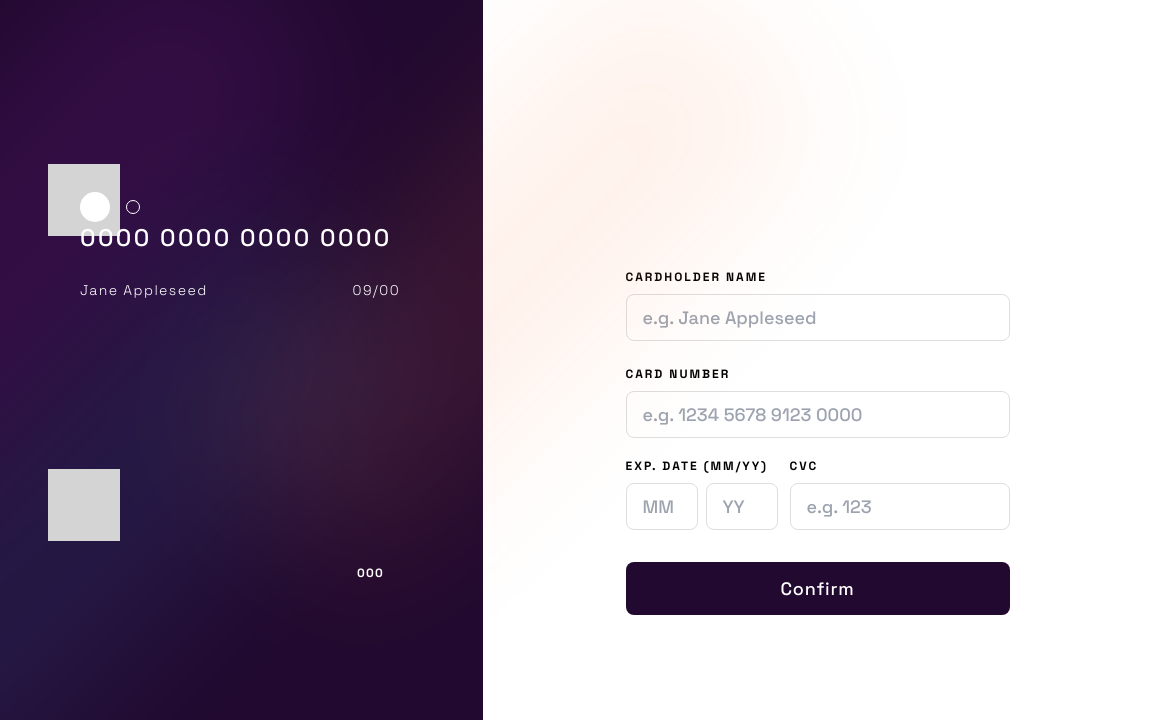
Test: Submit validation › Blank inputs validation › Should show a message if input card expitarion month date is blank
This screenshot has width=1152, height=720.
Type "Andres Marquez" into the field labelled "CARDHOLDER NAME" at (818, 318), box [626, 294, 1010, 341]
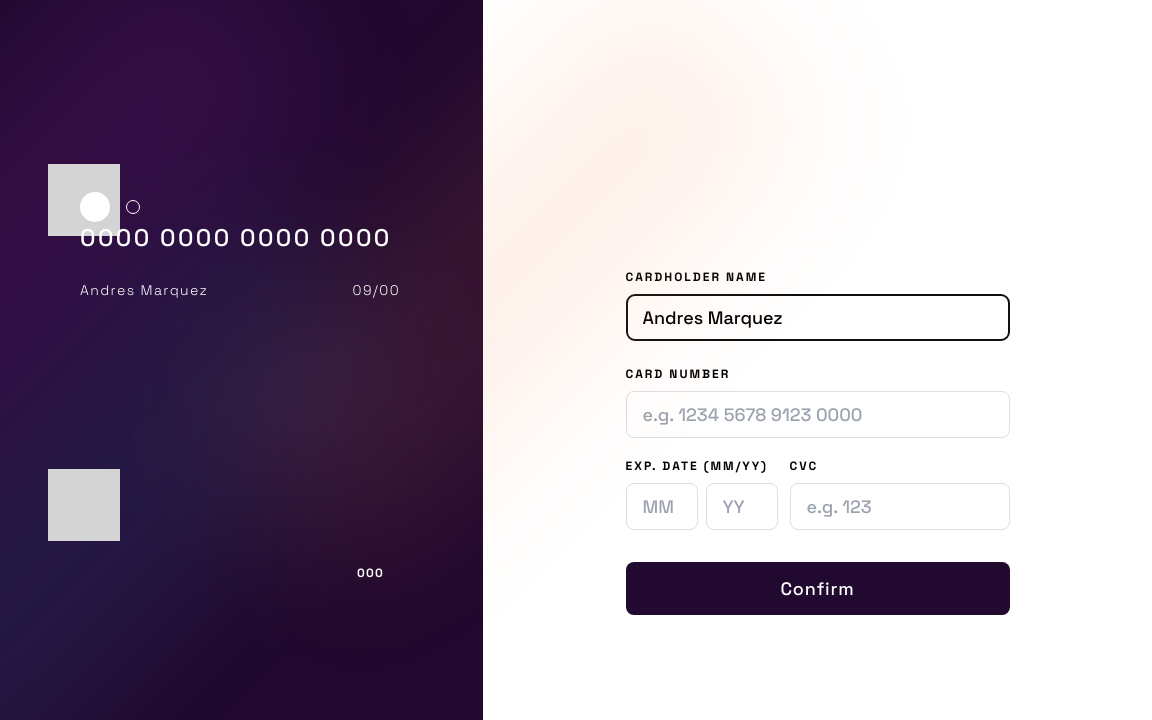
Type "0000001223444540" into the field labelled "CARD NUMBER" at (818, 414), box [626, 391, 1010, 438]
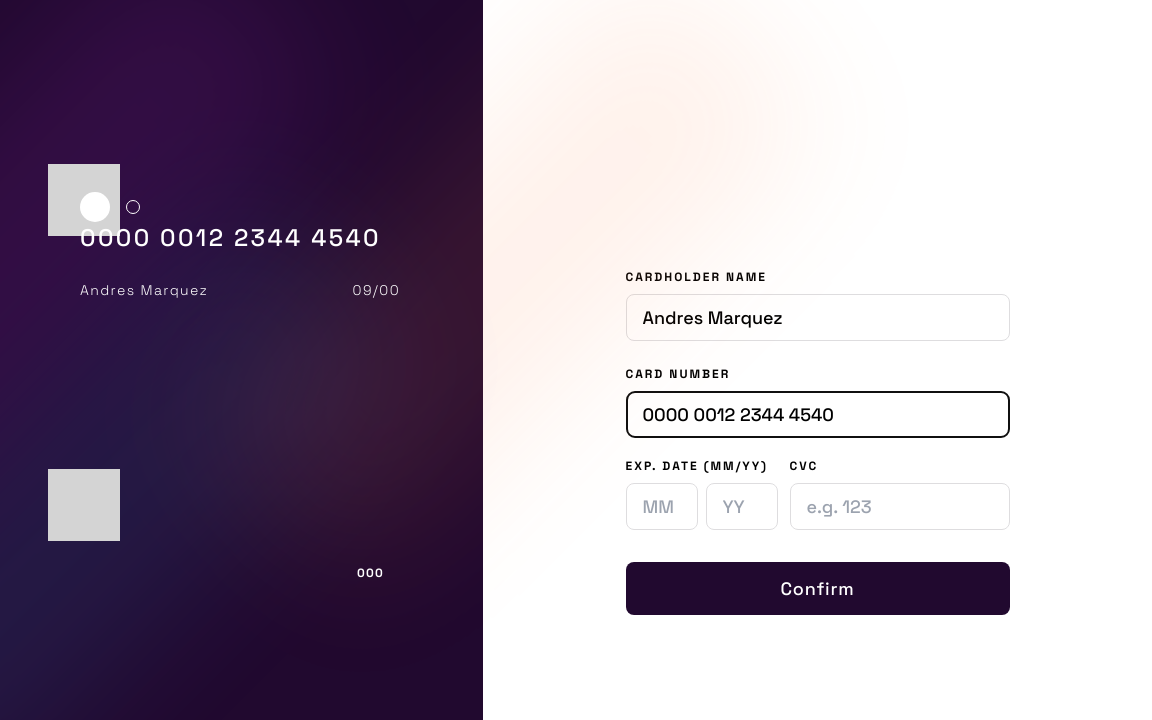
Type "200" into the field labelled "CVC" at (900, 506), box [790, 483, 1010, 530]
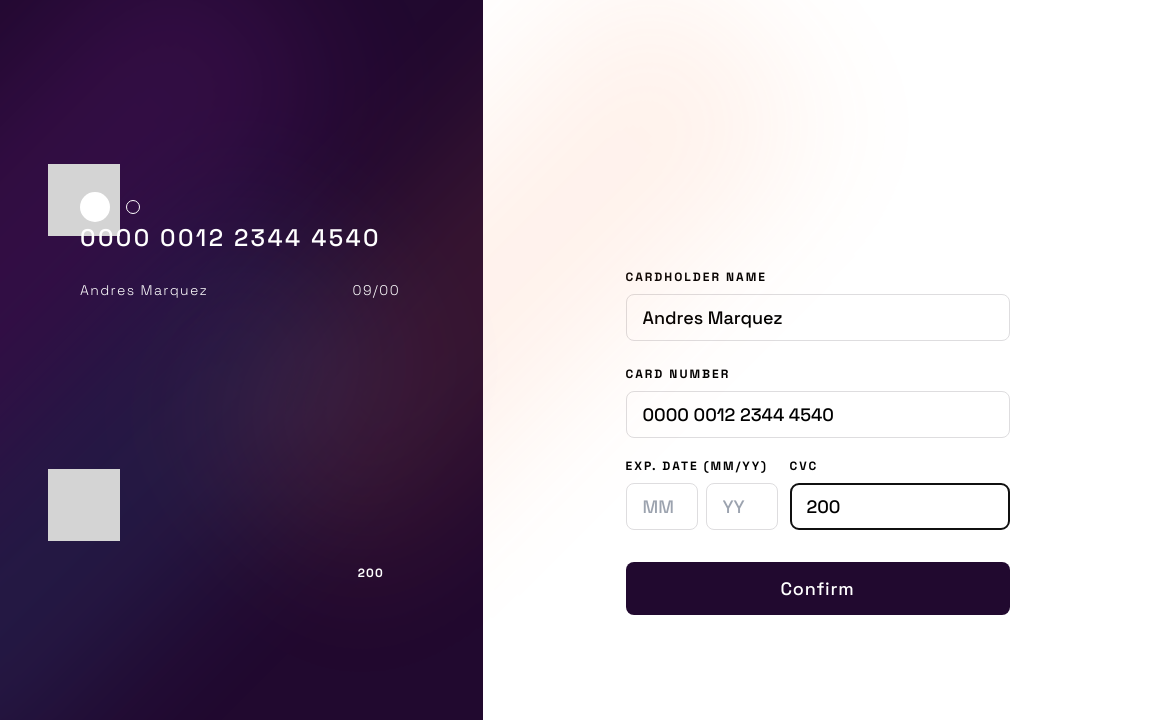
Type "30" into the field with test id "expiredDateYear" at (742, 506), box [706, 483, 778, 530]
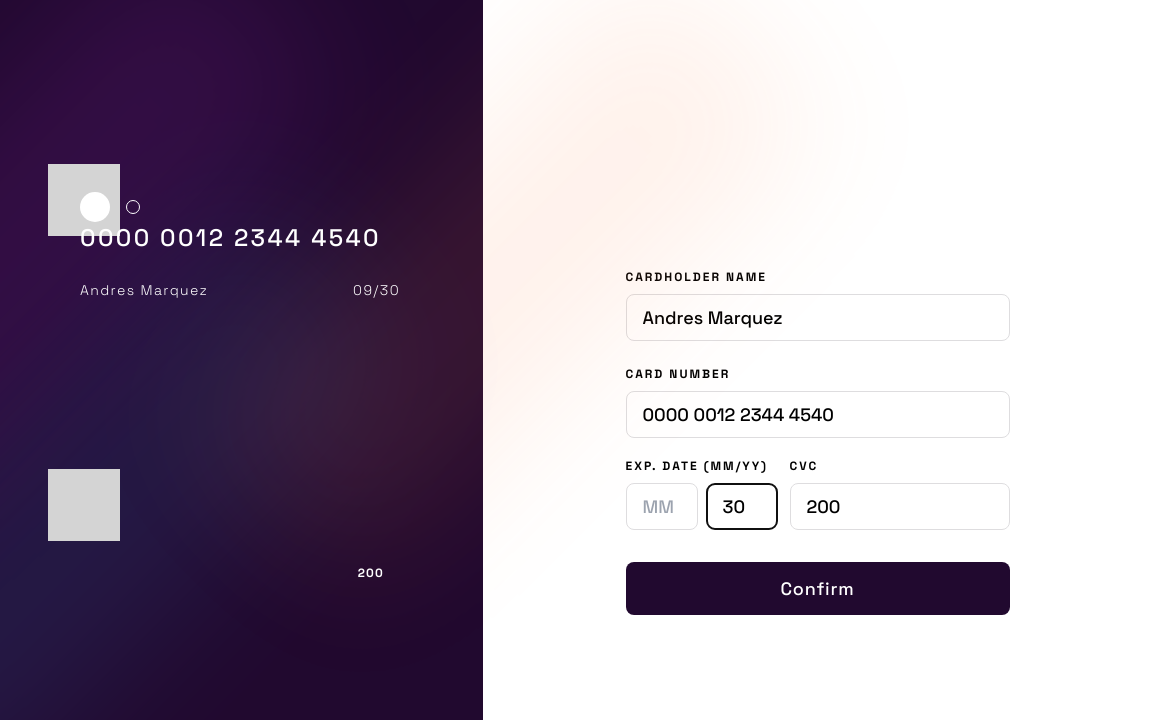
Click the button at (818, 588), box [626, 562, 1010, 615]
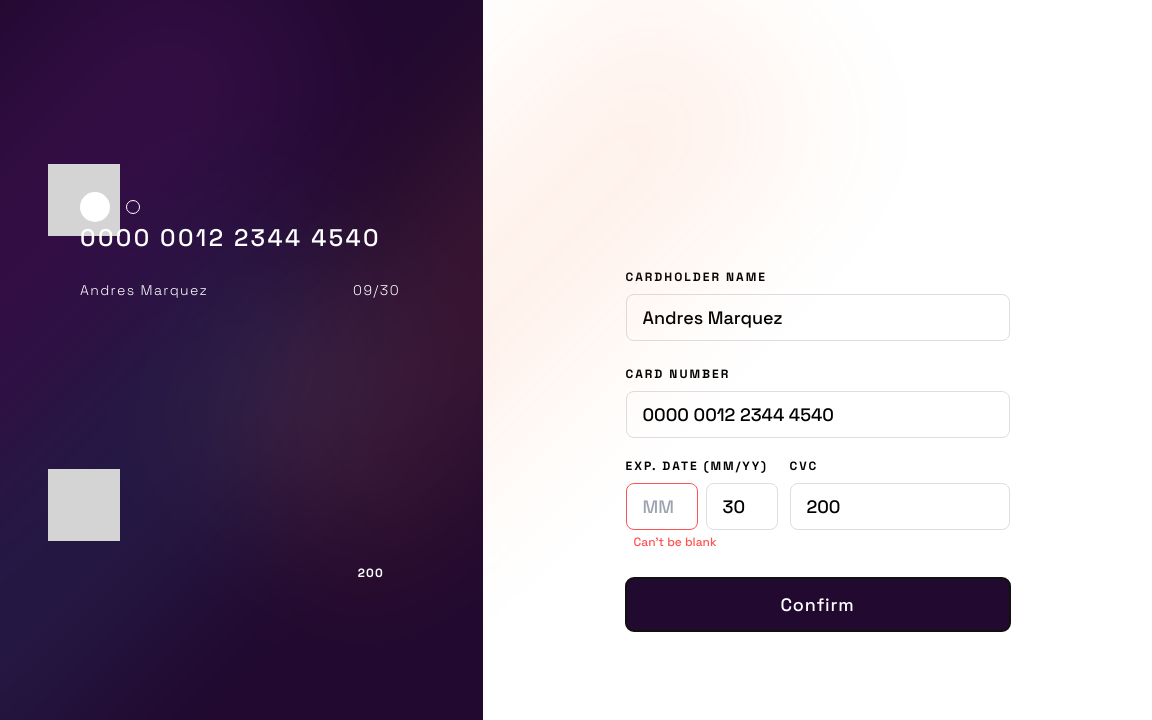
Result: the text "Can't be blank" is shown at [634, 534, 717, 550]
